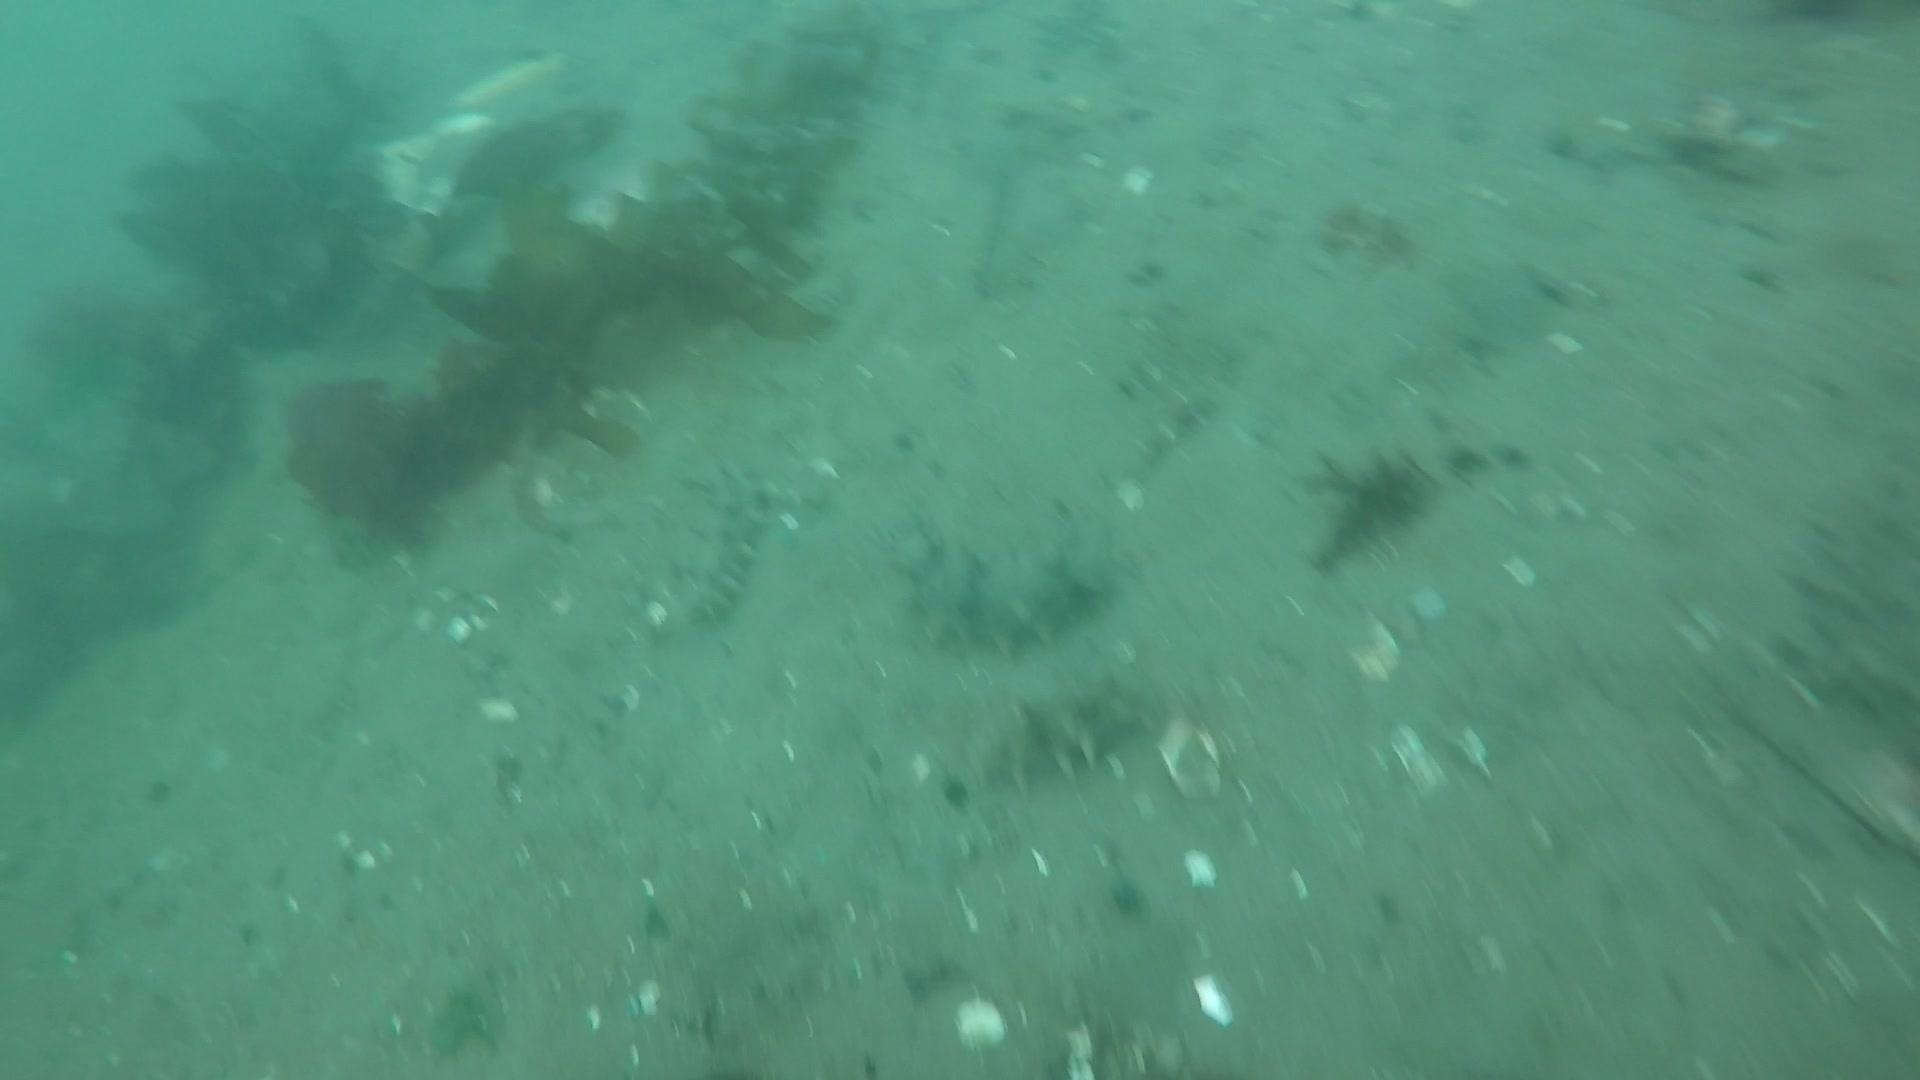holothurian: (887, 516, 1120, 661), (963, 659, 1171, 796), (1100, 322, 1244, 485), (659, 462, 778, 640)
